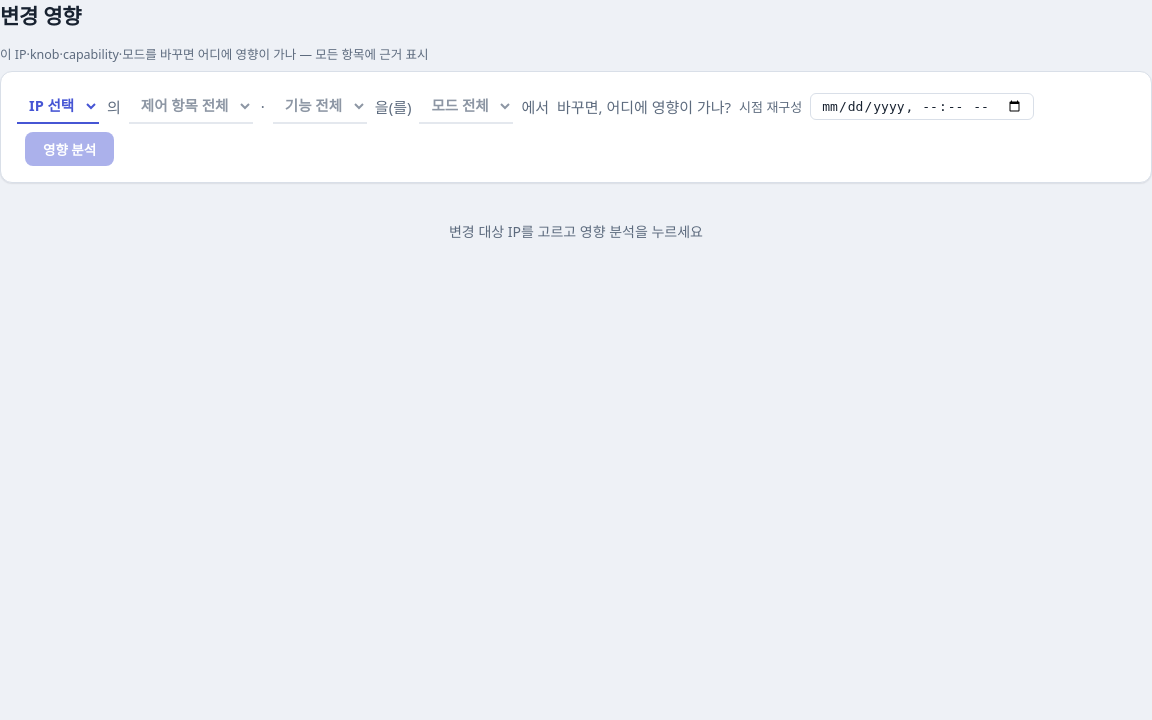
Test: ChangeImpactPage › 체크리스트 복사 버튼이 export 텍스트를 클립보드에 쓴다
The width and height of the screenshot is (1152, 720).
Select "ISP" in the dropdown named "무엇을 바꾸나요?" at (58, 106), box [17,88,99,124]
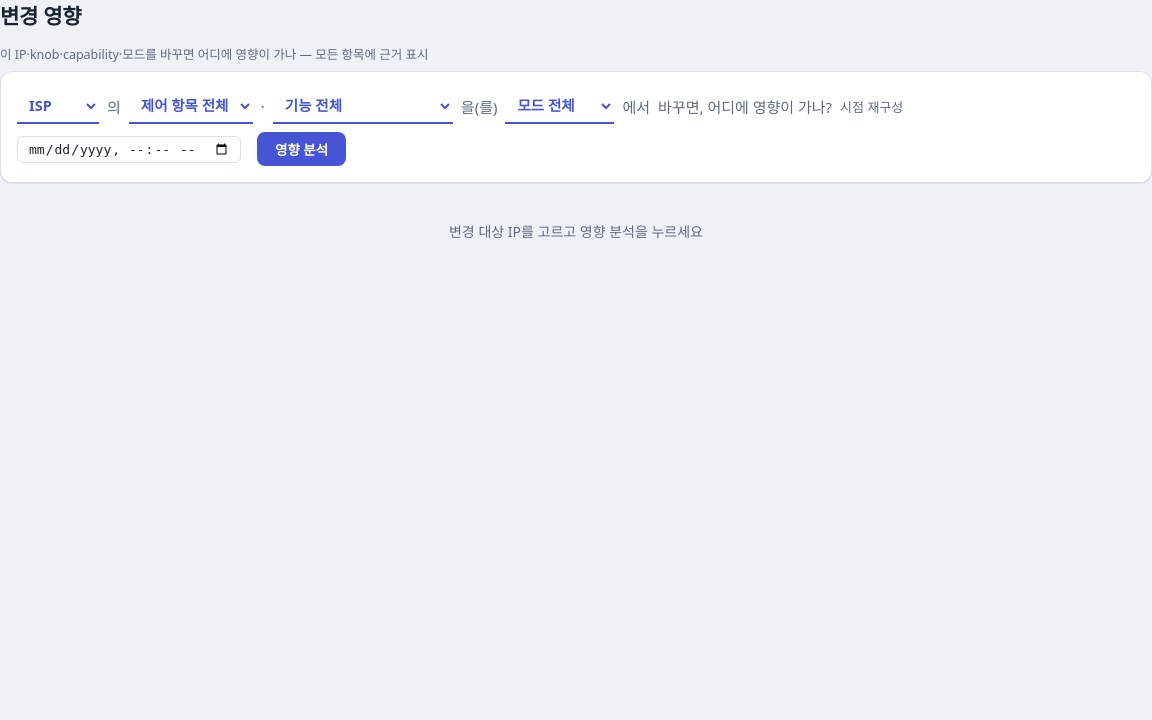
Click the button "영향 분석" at (302, 149), box [257,132,346,166]
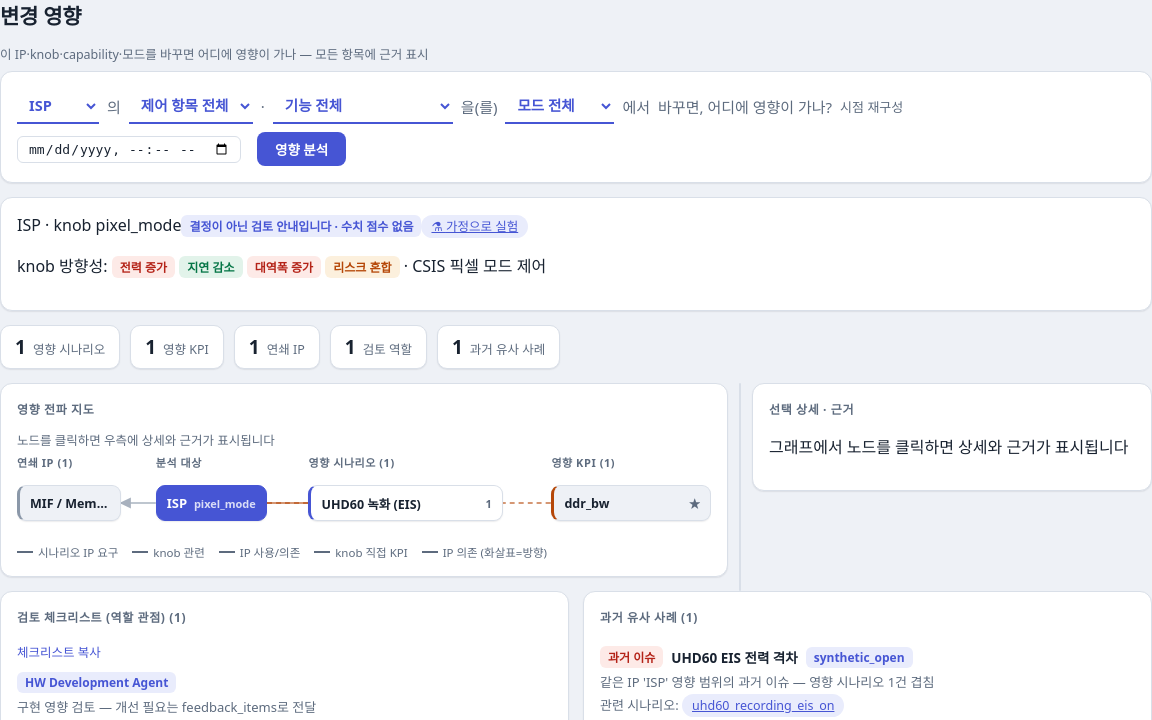
Now the text "ISP · knob pixel_mode" is shown, box [17,214,182,236]
Click the button "체크리스트 복사" at (59, 648), box [17,636,101,661]
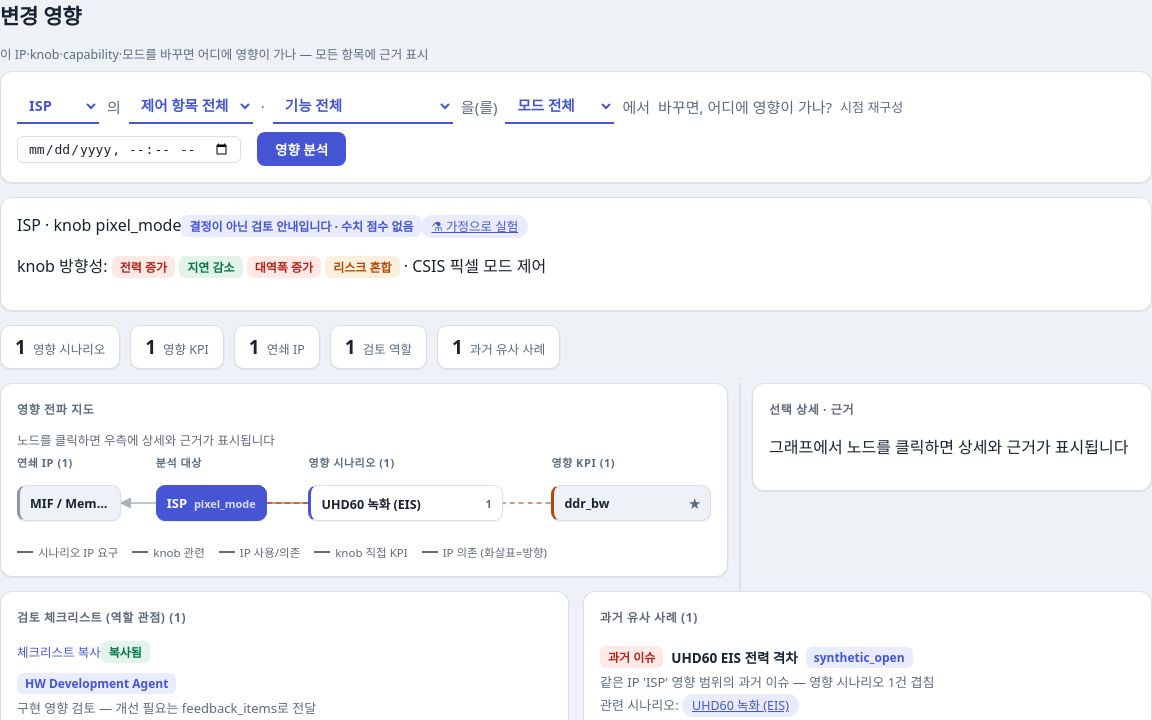
Now the text "복사됨" is shown, box [101,641,150,663]
